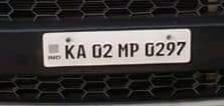0: (143, 40, 155, 57), (91, 42, 102, 59)
2: (154, 42, 164, 58), (103, 43, 112, 59)
7: (177, 41, 186, 57)
9: (166, 41, 176, 57)
K: (63, 44, 75, 60), (76, 44, 87, 60)
M: (117, 42, 129, 60)
P: (129, 42, 140, 58)
